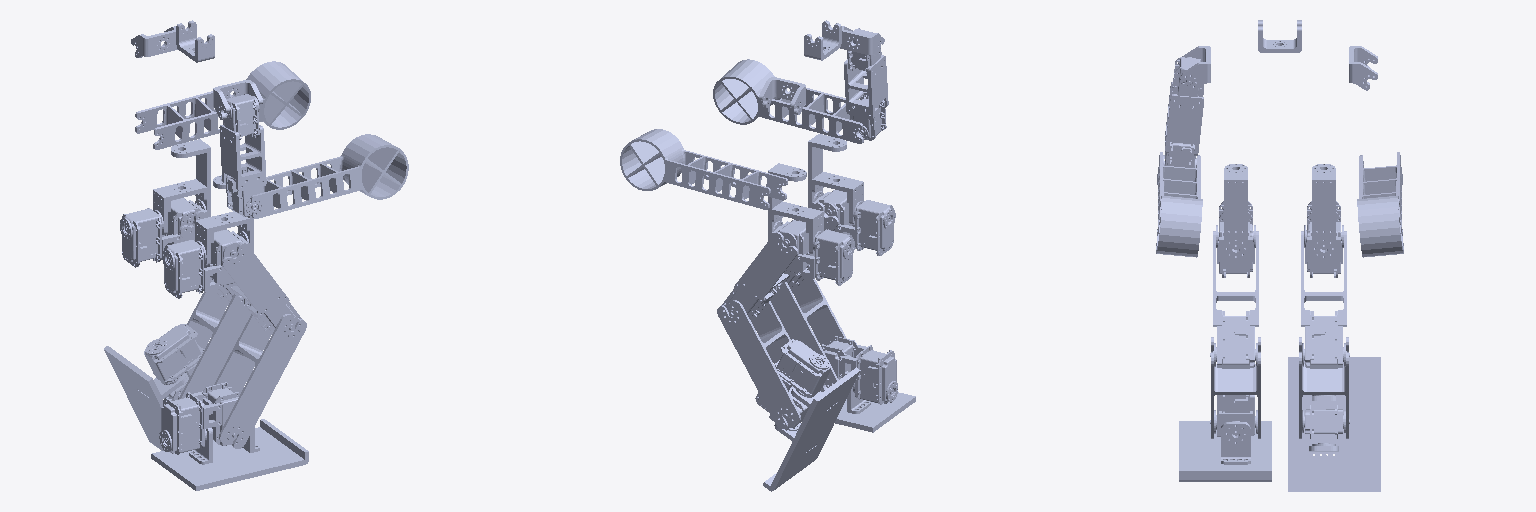
--- What the picture shows (computed from the rendered views, not written in the file) ---
3 views of the same robot in one strip: view 1: azimuth 30°, elevation 25°; view 2: azimuth 150°, elevation 25°; view 3: azimuth 270°, elevation 25° (orthographic).
Model kubot23N with 21 links and 20 joints (12 revolute, 8 fixed), rooted at base_link, posed all joints at 0.
Links seen in each view (by area): view 1: R_hand_pitch, R_Knee, L_hand_pitch, R_Ankle_roll, R_elbow_roll, R_Ankle_pitch, L_Knee, R_Hip_roll, L_Hip_roll, R_Hip_pitch, L_Ankle_roll, L_Ankle_pitch (+5 smaller); view 2: L_hand_pitch, R_hand_pitch, L_Knee, L_Ankle_roll, R_Knee, L_Hip_roll, R_elbow_roll, R_Ankle_pitch, R_Hip_roll, L_Hip_pitch, L_Ankle_pitch, R_Hip_yaw (+5 smaller); view 3: L_Ankle_roll, R_Ankle_roll, L_hand_pitch, R_hand_pitch, R_elbow_roll, L_Hip_pitch, R_Hip_pitch, R_Ankle_pitch, L_Hip_yaw, R_Hip_yaw, L_Ankle_pitch, L_Knee (+6 smaller).
Boxes of the visible links, x1,y1,x2,y2 form: R_hand_pitch: [250, 134, 408, 218]; R_Knee: [214, 314, 306, 448]; L_hand_pitch: [135, 61, 310, 149]; R_Ankle_roll: [151, 419, 308, 490]; R_elbow_roll: [219, 94, 266, 216]; R_Ankle_pitch: [159, 382, 259, 454]; L_Knee: [178, 290, 250, 399]; R_Hip_roll: [162, 230, 249, 298]; L_Hip_roll: [120, 198, 206, 267]; R_Hip_pitch: [222, 229, 301, 332]; L_Ankle_roll: [104, 346, 186, 450]; L_Ankle_pitch: [144, 324, 204, 400]; L_hand_pitch: [620, 129, 787, 209]; R_hand_pitch: [713, 59, 863, 143]; L_Knee: [717, 300, 800, 428]; L_Ankle_roll: [763, 367, 860, 491]; R_Knee: [770, 277, 846, 391]; L_Hip_roll: [772, 220, 854, 285]; R_elbow_roll: [844, 28, 888, 140]; R_Ankle_pitch: [821, 336, 897, 404]; R_Hip_roll: [812, 190, 895, 255]; L_Hip_pitch: [722, 219, 798, 318]; L_Ankle_pitch: [755, 339, 831, 441]; R_Hip_yaw: [808, 134, 863, 224]; L_Ankle_roll: [1288, 357, 1380, 491]; R_Ankle_roll: [1179, 421, 1271, 481]; L_hand_pitch: [1357, 152, 1403, 257]; R_hand_pitch: [1156, 152, 1202, 257]; R_elbow_roll: [1163, 57, 1203, 167]; L_Hip_pitch: [1301, 231, 1349, 368]; R_Hip_pitch: [1210, 231, 1258, 368]; R_Ankle_pitch: [1210, 395, 1257, 464]; L_Hip_yaw: [1312, 164, 1335, 261]; R_Hip_yaw: [1224, 164, 1247, 261]; L_Ankle_pitch: [1302, 395, 1349, 458]; L_Knee: [1299, 337, 1348, 438].
Size in the robot's own frame: 0.2926 by 0.2945 by 0.6094 metres.
Meshes: 21 distinct files referenced, 18 mesh visuals loaded (18 binary STL); not drawn: 3 (reference not matched to a file when rendering).

URDF robot description (kubot23N):
<?xml version="1.0" encoding="utf-8"?>
<!-- This URDF was automatically created by SolidWorks to URDF Exporter! Originally created by Stephen Brawner ([email redacted]) 
     Commit Version: 1.6.0-1-g15f4949  Build Version: 1.6.7594.29634
     For more information, please see http://wiki.ros.org/sw_urdf_exporter -->
<robot
  name="kubot23N">
  <link
    name="base_link">
    <inertial>
      <origin
        xyz="-0.01298 -0.0002287 0.10165"
        rpy="0 0 0" />
      <mass
        value="1.5013" />
      <inertia
        ixx="0.002447"
        ixy="0"
        ixz="0"
        iyy="0.0016369"
        iyz="0"
        izz="0.002646" />
    </inertial>
    <visual>
      <origin
        xyz="0 0 0"
        rpy="0 0 0" />
      <geometry>
        <mesh
          filename="../meshes/base_link.STL" />
      </geometry>
      <material
        name="">
        <color
          rgba="0.79216 0.81961 0.93333 1" />
      </material>
    </visual>
    <collision>
      <origin
        xyz="0 0 0"
        rpy="0 0 0" />
      <geometry>
        <mesh
          filename="../meshes/base_link.STL" />
      </geometry>
    </collision>
  </link>
  <link
    name="L_Hip_yaw">
    <inertial>
      <origin
        xyz="0.0079905 -7.6661E-09 0.037856"
        rpy="0 0 0" />
      <mass
        value="0.042373" />
      <inertia
        ixx="2.0934E-05"
        ixy="0"
        ixz="0"
        iyy="2.3301E-05"
        iyz="0"
        izz="8.0568E-06" />
    </inertial>
    <visual>
      <origin
        xyz="0 0 0"
        rpy="0 0 0" />
      <geometry>
        <mesh
          filename="../meshes/L_Hip_yaw.STL" />
      </geometry>
      <material
        name="">
        <color
          rgba="0.79216 0.81961 0.93333 1" />
      </material>
    </visual>
    <collision>
      <origin
        xyz="0 0 0"
        rpy="0 0 0" />
      <geometry>
        <mesh
          filename="../meshes/L_Hip_yaw.STL" />
      </geometry>
    </collision>
  </link>
  <joint
    name="L_Hip_yaw_joint"
    type="fixed">
    <origin
      xyz="0.02369 0.052535 -0.026869"
      rpy="0 0 0" />
    <parent
      link="base_link" />
    <child
      link="L_Hip_yaw" />
    <axis
      xyz="0 0 1" />
    <limit command_effort="40" current="10" effort="80" gear_velocity="10" lower="-0.01" upper="0.01" velocity="15"/>
    <dynamics damping="1.0" friction="0.1"/>
  </joint>
  <link
    name="L_Hip_roll">
    <inertial>
      <origin
        xyz="-0.026534 3.8583E-05 -0.015186"
        rpy="0 0 0" />
      <mass
        value="0.16184" />
      <inertia
        ixx="5.7094E-05"
        ixy="0"
        ixz="0"
        iyy="5.6447E-05"
        iyz="0"
        izz="3.5594E-05" />
    </inertial>
    <visual>
      <origin
        xyz="0 0 0"
        rpy="0 0 0" />
      <geometry>
        <mesh
          filename="../meshes/L_Hip_roll.STL" />
      </geometry>
      <material
        name="">
        <color
          rgba="0.79216 0.81961 0.93333 1" />
      </material>
    </visual>
    <collision>
      <origin
        xyz="0 0 0"
        rpy="0 0 0" />
      <geometry>
        <mesh
          filename="../meshes/L_Hip_roll.STL" />
      </geometry>
    </collision>
  </link>
  <joint
    name="L_Hip_roll_joint"
    type="revolute">
    <origin
      xyz="0 0 0"
      rpy="0 0 0" />
    <parent
      link="L_Hip_yaw" />
    <child
      link="L_Hip_roll" />
    <axis
      xyz="-1 0 0" />
    <limit command_effort="40" current="10" effort="80" gear_velocity="10" lower="-0.3" upper="0.175" velocity="15"/>
    <dynamics damping="1.0" friction="0.1"/>
  </joint>
  <link
    name="L_Hip_pitch">
    <inertial>
      <origin
        xyz="-0.00049308 0.00014973 -0.10339"
        rpy="0 0 0" />
      <mass
        value="0.13309" />
      <inertia
        ixx="0.00010704"
        ixy="0"
        ixz="0"
        iyy="7.9626E-05"
        iyz="0"
        izz="5.4203E-05" />
    </inertial>
    <visual>
      <origin
        xyz="0 0 0"
        rpy="0 0 0" />
      <geometry>
        <mesh
          filename="../meshes/L_Hip_pitch.STL" />
      </geometry>
      <material
        name="">
        <color
          rgba="0.79216 0.81961 0.93333 1" />
      </material>
    </visual>
    <collision>
      <origin
        xyz="0 0 0"
        rpy="0 0 0" />
      <geometry>
        <mesh
          filename="../meshes/L_Hip_pitch.STL" />
      </geometry>
    </collision>
  </link>
  <joint
    name="L_Hip_pitch_joint"
    type="revolute">
    <origin
      xyz="0 0 0"
      rpy="0 -0.592069 0" />
    <parent
      link="L_Hip_roll" />
    <child
      link="L_Hip_pitch" />
    <axis
      xyz="0 -1 0" />
    <limit command_effort="40" current="10" effort="80" gear_velocity="10" lower="-0.795" upper="2.094" velocity="15"/>
    <dynamics damping="1.0" friction="0.1"/>
  </joint>
  <link
    name="L_Knee">
    <inertial>
      <origin
        xyz="-0.0008 0.00019995 -0.071592"
        rpy="0 0 0" />
      <mass
        value="0.064192" />
      <inertia
        ixx="0.00017283"
        ixy="0"
        ixz="0"
        iyy="0.00013756"
        iyz="0"
        izz="5.3025E-05" />
    </inertial>
    <visual>
      <origin
        xyz="0 0 0"
        rpy="0 0 0" />
      <geometry>
        <mesh
          filename="../meshes/L_Knee.STL" />
      </geometry>
      <material
        name="">
        <color
          rgba="0.79216 0.81961 0.93333 1" />
      </material>
    </visual>
    <collision>
      <origin
        xyz="0 0 0"
        rpy="0 0 0" />
      <geometry>
        <mesh
          filename="../meshes/L_Knee.STL" />
      </geometry>
    </collision>
  </link>
  <joint
    name="L_Knee_joint"
    type="revolute">
    <origin
      xyz="0 0 -0.142"
      rpy="0 1.160804 0" />
    <parent
      link="L_Hip_pitch" />
    <child
      link="L_Knee" />
    <axis
      xyz="0 -1 0" />
    <limit command_effort="40" current="10" effort="80" gear_velocity="10" lower="-1" upper="0.5" velocity="15"/>
    <dynamics damping="1.0" friction="0.1"/>
  </joint>
  <link
    name="L_Ankle_pitch">
    <inertial>
      <origin
        xyz="-0.023428 0.00014941 0.013986"
        rpy="0 0 0" />
      <mass
        value="0.202" />
      <inertia
        ixx="8.0067E-05"
        ixy="0"
        ixz="0"
        iyy="7.8271E-05"
        iyz="0"
        izz="4.9146E-05" />
    </inertial>
    <visual>
      <origin
        xyz="0 0 0"
        rpy="0 0 0" />
      <geometry>
        <mesh
          filename="../meshes/L_Ankle_pitch.STL" />
      </geometry>
      <material
        name="">
        <color
          rgba="0.79216 0.81961 0.93333 1" />
      </material>
    </visual>
    <collision>
      <origin
        xyz="0 0 0"
        rpy="0 0 0" />
      <geometry>
        <mesh
          filename="../meshes/L_Ankle_pitch.STL" />
      </geometry>
    </collision>
  </link>
  <joint
    name="L_Ankle_pitch_joint"
    type="revolute">
    <origin
      xyz="0 0 -0.15"
      rpy="0 0.568735 0" />
    <parent
      link="L_Knee" />
    <child
      link="L_Ankle_pitch" />
    <axis
      xyz="0 -1 0" />
    <limit command_effort="40" current="10" effort="80" gear_velocity="10" lower="-0.3" upper="0.6" velocity="15"/>
    <dynamics damping="1.0" friction="0.1"/>
  </joint>
  <link
    name="L_Ankle_roll">
    <inertial>
      <origin
        xyz="0.0032401 0.011838 -0.036203"
        rpy="0 0 0" />
      <mass
        value="0.13947" />
      <inertia
        ixx="0.00013469"
        ixy="0"
        ixz="0"
        iyy="0.00029939"
        iyz="0"
        izz="0.0004274" />
    </inertial>
    <visual>
      <origin
        xyz="0 0 0"
        rpy="0 0 0" />
      <geometry>
        <mesh
          filename="../meshes/L_Ankle_roll.STL" />
      </geometry>
      <material
        name="">
        <color
          rgba="0.79216 0.81961 0.93333 1" />
      </material>
    </visual>
    <collision>
      <origin
        xyz="0 0 0"
        rpy="0 0 0" />
      <geometry>
        <mesh
          filename="../meshes/L_Ankle_roll.STL" />
      </geometry>
    </collision>
  </link>
  <joint
    name="L_Ankle_roll_joint"
    type="revolute">
    <origin
      xyz="0 0 0"
      rpy="0 0 0" />
    <parent
      link="L_Ankle_pitch" />
    <child
      link="L_Ankle_roll" />
    <axis
      xyz="-1 0 0" />
    <limit command_effort="40" current="10" effort="80" gear_velocity="10" lower="-0.05" upper="0.05" velocity="15"/>
    <dynamics damping="0.707" friction="0.1"/>
  </joint>
  <link
    name="R_Hip_yaw">
    <inertial>
      <origin
        xyz="0.0079905 -7.6661E-09 0.037856"
        rpy="0 0 0" />
      <mass
        value="0.042373" />
      <inertia
        ixx="2.0934E-05"
        ixy="0"
        ixz="0"
        iyy="2.3301E-05"
        iyz="0"
        izz="8.0568E-06" />
    </inertial>
    <visual>
      <origin
        xyz="0 0 0"
        rpy="0 0 0" />
      <geometry>
        <mesh
          filename="../meshes/R_Hip_yaw.STL" />
      </geometry>
      <material
        name="">
        <color
          rgba="0.79216 0.81961 0.93333 1" />
      </material>
    </visual>
    <collision>
      <origin
        xyz="0 0 0"
        rpy="0 0 0" />
      <geometry>
        <mesh
          filename="../meshes/R_Hip_yaw.STL" />
      </geometry>
    </collision>
  </link>
  <joint
    name="R_Hip_yaw_joint"
    type="revolute">
    <origin
      xyz="0.02369 -0.052065 -0.026869"
      rpy="0 0 0" />
    <parent
      link="base_link" />
    <child
      link="R_Hip_yaw" />
    <axis
      xyz="0 0 1" />
    <limit command_effort="40" current="10" effort="80" gear_velocity="10" lower="-0.1" upper="0.1" velocity="15"/>
    <dynamics damping="0.707" friction="0.1"/>
  </joint>
  <link
    name="R_Hip_roll">
    <inertial>
      <origin
        xyz="-0.026534 -3.8624E-05 -0.015186"
        rpy="0 0 0" />
      <mass
        value="0.16184" />
      <inertia
        ixx="5.7094E-05"
        ixy="0"
        ixz="0"
        iyy="5.6447E-05"
        iyz="0"
        izz="3.5594E-05" />
    </inertial>
    <visual>
      <origin
        xyz="0 0 0"
        rpy="0 0 0" />
      <geometry>
        <mesh
          filename="../meshes/R_Hip_roll.STL" />
      </geometry>
      <material
        name="">
        <color
          rgba="0.79216 0.81961 0.93333 1" />
      </material>
    </visual>
    <collision>
      <origin
        xyz="0 0 0"
        rpy="0 0 0" />
      <geometry>
        <mesh
          filename="../meshes/R_Hip_roll.STL" />
      </geometry>
    </collision>
  </link>
  <joint
    name="R_Hip_roll_joint"
    type="revolute">
    <origin
      xyz="0 0 0"
      rpy="0 0 0" />
    <parent
      link="R_Hip_yaw" />
    <child
      link="R_Hip_roll" />
    <axis
      xyz="-1 0 0" />
    <limit command_effort="40" current="10" effort="80" gear_velocity="10" lower="-0.175" upper="0.3" velocity="15"/>
    <dynamics damping="1.0" friction="0.1"/>
  </joint>
  <link
    name="R_Hip_pitch">
    <inertial>
      <origin
        xyz="-0.0004978 -0.00014979 -0.10339"
        rpy="0 0 0" />
      <mass
        value="0.13309" />
      <inertia
        ixx="0.00010704"
        ixy="0"
        ixz="0"
        iyy="7.9626E-05"
        iyz="0"
        izz="5.4203E-05" />
    </inertial>
    <visual>
      <origin
        xyz="0 0 0"
        rpy="0 0 0" />
      <geometry>
        <mesh
          filename="../meshes/R_Hip_pitch.STL" />
      </geometry>
      <material
        name="">
        <color
          rgba="0.79216 0.81961 0.93333 1" />
      </material>
    </visual>
    <collision>
      <origin
        xyz="0 0 0"
        rpy="0 0 0" />
      <geometry>
        <mesh
          filename="../meshes/R_Hip_pitch.STL" />
      </geometry>
    </collision>
  </link>
  <joint
    name="R_Hip_pitch_joint"
    type="revolute">
    <origin
      xyz="0 0 0"
      rpy="0 -0.592069 0" />
    <parent
      link="R_Hip_roll" />
    <child
      link="R_Hip_pitch" />
    <axis
      xyz="0 1 0" />
    <limit command_effort="40" current="10" effort="80" gear_velocity="10" lower="-2.094" upper="0.795" velocity="15"/>
    <dynamics damping="1.0" friction="0.1"/>
  </joint>
  <link
    name="R_Knee">
    <inertial>
      <origin
        xyz="-0.0008 -0.00020005 -0.071592"
        rpy="0 0 0" />
      <mass
        value="0.064192" />
      <inertia
        ixx="0.00017283"
        ixy="0"
        ixz="0"
        iyy="0.00013756"
        iyz="0"
        izz="5.3025E-05" />
    </inertial>
    <visual>
      <origin
        xyz="0 0 0"
        rpy="0 0 0" />
      <geometry>
        <mesh
          filename="../meshes/R_Knee.STL" />
      </geometry>
      <material
        name="">
        <color
          rgba="0.79216 0.81961 0.93333 1" />
      </material>
    </visual>
    <collision>
      <origin
        xyz="0 0 0"
        rpy="0 0 0" />
      <geometry>
        <mesh
          filename="../meshes/R_Knee.STL" />
      </geometry>
    </collision>
  </link>
  <joint
    name="R_Knee_joint"
    type="revolute">
    <origin
      xyz="0 0 -0.142"
      rpy="0 1.160804 0" />
    <parent
      link="R_Hip_pitch" />
    <child
      link="R_Knee" />
    <axis
      xyz="0 1 0" />
    <limit command_effort="40" current="10" effort="80" gear_velocity="10" lower="-0.5" upper="1.0" velocity="15"/>
    <dynamics damping="1.0" friction="0.1"/>
  </joint>
  <link
    name="R_Ankle_pitch">
    <inertial>
      <origin
        xyz="-0.023731 -0.00015295 0.01407"
        rpy="0 0 0" />
      <mass
        value="0.20079" />
      <inertia
        ixx="7.9929E-05"
        ixy="0"
        ixz="0"
        iyy="7.8201E-05"
        iyz="0"
        izz="4.9077E-05" />
    </inertial>
    <visual>
      <origin
        xyz="0 0 0"
        rpy="0 0 0" />
      <geometry>
        <mesh
          filename="../meshes/R_Ankle_pitch.STL" />
      </geometry>
      <material
        name="">
        <color
          rgba="0.79216 0.81961 0.93333 1" />
      </material>
    </visual>
    <collision>
      <origin
        xyz="0 0 0"
        rpy="0 0 0" />
      <geometry>
        <mesh
          filename="../meshes/R_Ankle_pitch.STL" />
      </geometry>
    </collision>
  </link>
  <joint
    name="R_Ankle_pitch_joint"
    type="revolute">
    <origin
      xyz="0 0 -0.15"
      rpy="0 -0.568735 0" />
    <parent
      link="R_Knee" />
    <child
      link="R_Ankle_pitch" />
    <axis
      xyz="0 1 0" />
    <limit command_effort="40" current="10" effort="80" gear_velocity="10" lower="-0.6" upper="0.3" velocity="15"/>
    <dynamics damping="1.0" friction="0.1"/>
  </joint>
  <link
    name="R_Ankle_roll">
    <inertial>
      <origin
        xyz="0.0032401 -0.011838 -0.036203"
        rpy="0 0 0" />
      <mass
        value="0.13947" />
      <inertia
        ixx="0.00013469"
        ixy="0"
        ixz="0"
        iyy="0.00029939"
        iyz="0"
        izz="0.0004274" />
    </inertial>
    <visual>
      <origin
        xyz="0 0 0"
        rpy="0 0 0" />
      <geometry>
        <mesh
          filename="../meshes/R_Ankle_roll.STL" />
      </geometry>
      <material
        name="">
        <color
          rgba="0.79216 0.81961 0.93333 1" />
      </material>
    </visual>
    <collision>
      <origin
        xyz="0 0 0"
        rpy="0 0 0" />
      <geometry>
        <mesh
          filename="../meshes/R_Ankle_roll.STL" />
      </geometry>
    </collision>
  </link>
  <joint
    name="R_Ankle_roll_joint"
    type="revolute">
    <origin
      xyz="0 0 0"
      rpy="0 0 0" />
    <parent
      link="R_Ankle_pitch" />
    <child
      link="R_Ankle_roll" />
    <axis
      xyz="-1 0 0" />
    <limit command_effort="40" current="10" effort="80" gear_velocity="10" lower="-0.05" upper="0.05" velocity="15"/>
    <dynamics damping="0.707" friction="0.1"/>
  </joint>
  <link
    name="L_shoulder_pitch">
    <inertial>
      <origin
        xyz="-5.0536E-10 0.010248 -0.0016377"
        rpy="0 0 0" />
      <mass
        value="0.01447" />
      <inertia
        ixx="2.0393E-06"
        ixy="0"
        ixz="0"
        iyy="6.5772E-06"
        iyz="0"
        izz="6.757E-06" />
    </inertial>
    <visual>
      <origin
        xyz="0 0 0"
        rpy="0 0 0" />
      <geometry>
        <mesh
          filename="../meshes/L_shoulder_pitch.STL" />
      </geometry>
      <material
        name="">
        <color
          rgba="0.79216 0.81961 0.93333 1" />
      </material>
    </visual>
    <collision>
      <origin
        xyz="0 0 0"
        rpy="0 0 0" />
      <geometry>
        <mesh
          filename="../meshes/L_shoulder_pitch.STL" />
      </geometry>
    </collision>
  </link>
  <joint
    name="L_shoulder_pitch_joint"
    type="fixed">
    <origin
      xyz="0.01519 0.081985 0.19521"
      rpy="0 0 0" />
    <parent
      link="base_link" />
    <child
      link="L_shoulder_pitch" />
    <axis
      xyz="0 -1 0" />
    <limit command_effort="40" current="10" effort="80" gear_velocity="10" lower="-0.05" upper="0.05" velocity="15"/>
    <dynamics damping="0.707" friction="0.1"/>
  </joint>
  <link
    name="L_elbow_roll">
    <inertial>
      <origin
        xyz="-0.02074 1.0222E-05 -0.061881"
        rpy="0 0 0" />
      <mass
        value="0.12312" />
      <inertia
        ixx="4.1405E-05"
        ixy="0"
        ixz="0"
        iyy="4.4134E-05"
        iyz="0"
        izz="2.9326E-05" />
    </inertial>
    <visual>
      <origin
        xyz="0 0 0"
        rpy="0 0 0" />
      <geometry>
        <mesh
          filename="../meshes/L_elbow_roll.STL" />
      </geometry>
      <material
        name="">
        <color
          rgba="0.79216 0.81961 0.93333 1" />
      </material>
    </visual>
    <collision>
      <origin
        xyz="0 0 0"
        rpy="0 0 0" />
      <geometry>
        <mesh
          filename="../meshes/L_elbow_roll.STL" />
      </geometry>
    </collision>
  </link>
  <joint
    name="L_elbow_roll_joint"
    type="fixed">
    <origin
      xyz="0.020275 0.025656 -0.01045"
      rpy="0.1 0 0" />
    <parent
      link="L_shoulder_pitch" />
    <child
      link="L_elbow_roll" />
    <axis
      xyz="-1 0 0" />
    <limit command_effort="40" current="10" effort="80" gear_velocity="10" lower="-0.1" upper="0.03" velocity="15"/>
    <dynamics damping="1.0" friction="0.1"/>
  </joint>
  <link
    name="L_hand_pitch">
    <inertial>
      <origin
        xyz="-2.6021E-15 -0.020275 -0.13605"
        rpy="0 0 0" />
      <mass
        value="0.085842" />
      <inertia
        ixx="0.00035605"
        ixy="0"
        ixz="0"
        iyy="0.00035569"
        iyz="0"
        izz="4.765E-05" />
    </inertial>
    <visual>
      <origin
        xyz="0 0 0"
        rpy="0 0 0" />
      <geometry>
        <mesh
          filename="../meshes/L_hand_pitch.STL" />
      </geometry>
      <material
        name="">
        <color
          rgba="0.79216 0.81961 0.93333 1" />
      </material>
    </visual>
    <collision>
      <origin
        xyz="0 0 0"
        rpy="0 0 0" />
      <geometry>
        <mesh
          filename="../meshes/L_hand_pitch.STL" />
      </geometry>
    </collision>
  </link>
  <joint
    name="L_hand_pitch_joint"
    type="fixed">
    <origin
      xyz="-0.02075 0.02075 -0.1231"
      rpy="0 -1.6 0" />
    <parent
      link="L_elbow_roll" />
    <child
      link="L_hand_pitch" />
    <axis
      xyz="0 -1 0" />
    <limit command_effort="40" current="10" effort="80" gear_velocity="10" lower="-0.01" upper="0.03" velocity="15"/>
    <dynamics damping="0.707" friction="0.1"/>
  </joint>
  <link
    name="R_shoulder_pitch">
    <inertial>
      <origin
        xyz="5.0536E-10 -0.010248 -0.0016377"
        rpy="0 0 0" />
      <mass
        value="0.01447" />
      <inertia
        ixx="2.0393E-06"
        ixy="0"
        ixz="0"
        iyy="6.5772E-06"
        iyz="0"
        izz="6.757E-06" />
    </inertial>
    <visual>
      <origin
        xyz="0 0 0"
        rpy="0 0 0" />
      <geometry>
        <mesh
          filename="../meshes/R_shoulder_pitch.STL" />
      </geometry>
      <material
        name="">
        <color
          rgba="0.79216 0.81961 0.93333 1" />
      </material>
    </visual>
    <collision>
      <origin
        xyz="0 0 0"
        rpy="0 0 0" />
      <geometry>
        <mesh
          filename="../meshes/R_shoulder_pitch.STL" />
      </geometry>
    </collision>
  </link>
  <joint
    name="R_shoulder_pitch_joint"
    type="fixed">
    <origin
      xyz="0.01519 -0.081515 0.19521"
      rpy="0 0 0" />
    <parent
      link="base_link" />
    <child
      link="R_shoulder_pitch" />
    <axis
      xyz="0 1 0" />
    <limit command_effort="40" current="10" effort="80" gear_velocity="10" lower="-0.05" upper="0.05" velocity="15"/>
    <dynamics damping="0.707" friction="0.1"/>
  </joint>
  <link
    name="R_elbow_roll">
    <inertial>
      <origin
        xyz="-0.020741 -8.8027E-06 -0.061881"
        rpy="0 0 0" />
      <mass
        value="0.12312" />
      <inertia
        ixx="4.1405E-05"
        ixy="0"
        ixz="0"
        iyy="4.4134E-05"
        iyz="0"
        izz="2.9326E-05" />
    </inertial>
    <visual>
      <origin
        xyz="0 0 0"
        rpy="0 0 0" />
      <geometry>
        <mesh
          filename="../meshes/R_elbow_roll.STL" />
      </geometry>
      <material
        name="">
        <color
          rgba="0.79216 0.81961 0.93333 1" />
      </material>
    </visual>
    <collision>
      <origin
        xyz="0 0 0"
        rpy="0 0 0" />
      <geometry>
        <mesh
          filename="../meshes/R_elbow_roll.STL" />
      </geometry>
    </collision>
  </link>
  <joint
    name="R_elbow_roll_joint"
    type="fixed">
    <origin
      xyz="0.020275 -0.025656 -0.01045"
      rpy="-0.1 0 0" />
    <parent
      link="R_shoulder_pitch" />
    <child
      link="R_elbow_roll" />
    <axis
      xyz="-1 0 0" />
    <limit command_effort="40" current="10" effort="80" gear_velocity="10" lower="-0.03" upper="0.1" velocity="15"/>
    <dynamics damping="1.0" friction="0.1"/>
  </joint>
  <link
    name="R_hand_pitch">
    <inertial>
      <origin
        xyz="-4.8572E-16 0.020275 -0.13605"
        rpy="0 0 0" />
      <mass
        value="0.085842" />
      <inertia
        ixx="0.00035605"
        ixy="0"
        ixz="0"
        iyy="0.00035569"
        iyz="0"
        izz="4.765E-05" />
    </inertial>
    <visual>
      <origin
        xyz="0 0 0"
        rpy="0 0 0" />
      <geometry>
        <mesh
          filename="../meshes/R_hand_pitch.STL" />
      </geometry>
      <material
        name="">
        <color
          rgba="0.79216 0.81961 0.93333 1" />
      </material>
    </visual>
    <collision>
      <origin
        xyz="0 0 0"
        rpy="0 0 0" />
      <geometry>
        <mesh
          filename="../meshes/R_hand_pitch.STL" />
      </geometry>
    </collision>
  </link>
  <joint
    name="R_hand_pitch_joint"
    type="fixed">
    <origin
      xyz="-0.02075 -0.02075 -0.1231"
      rpy="0 -1.6 0" />
    <parent
      link="R_elbow_roll" />
    <child
      link="R_hand_pitch" />
    <axis
      xyz="0 1 0" />
    <limit command_effort="40" current="10" effort="80" gear_velocity="10" lower="-0.03" upper="0.01" velocity="15"/>
    <dynamics damping="0.707" friction="0.1"/>
  </joint>
  <link
    name="Neck_yaw">
    <inertial>
      <origin
        xyz="1.027E-15 2.3592E-16 0.010333"
        rpy="0 0 0" />
      <mass
        value="0.014237" />
      <inertia
        ixx="6.6446E-06"
        ixy="0"
        ixz="0"
        iyy="1.9564E-06"
        iyz="0"
        izz="6.2867E-06" />
    </inertial>
    <visual>
      <origin
        xyz="0 0 0"
        rpy="0 0 0" />
      <geometry>
        <mesh
          filename="../meshes/Neck_yaw.STL" />
      </geometry>
      <material
        name="">
        <color
          rgba="0.79216 0.81961 0.93333 1" />
      </material>
    </visual>
    <collision>
      <origin
        xyz="0 0 0"
        rpy="0 0 0" />
      <geometry>
        <mesh
          filename="../meshes/Neck_yaw.STL" />
      </geometry>
    </collision>
  </link>
  <joint
    name="Neck_yaw_joint"
    type="fixed">
    <origin
      xyz="0.01344 0.00023493 0.21516"
      rpy="0 0 0" />
    <parent
      link="base_link" />
    <child
      link="Neck_yaw" />
    <axis
      xyz="0 0 -1" />
    <limit command_effort="40" current="10" effort="80" gear_velocity="10" lower="-0.01" upper="0.01" velocity="15"/>
    <dynamics damping="0.707" friction="0.1"/>
  </joint>
  <link
    name="head_pitch">
    <inertial>
      <origin
        xyz="-0.00087615 -0.00049281 0.038502"
        rpy="0 0 0" />
      <mass
        value="0.14082" />
      <inertia
        ixx="0.0001309"
        ixy="0"
        ixz="0"
        iyy="2.5779E-05"
        iyz="0"
        izz="0.00012811" />
    </inertial>
    <visual>
      <origin
        xyz="0 0 0"
        rpy="0 0 0" />
      <geometry>
        <mesh
          filename="../meshes/head_pitch.STL" />
      </geometry>
      <material
        name="">
        <color
          rgba="0.79216 0.81961 0.93333 1" />
      </material>
    </visual>
    <collision>
      <origin
        xyz="0 0 0"
        rpy="0 0 0" />
      <geometry>
        <mesh
          filename="../meshes/head_pitch.STL" />
      </geometry>
    </collision>
  </link>
  <joint
    name="head_pitch_joint"
    type="revolute">
    <origin
      xyz="0 0 0.0275"
      rpy="0 0 0" />
    <parent
      link="Neck_yaw" />
    <child
      link="head_pitch" />
    <axis
      xyz="0 1 0" />
    <limit command_effort="40" current="10" effort="80" gear_velocity="10" lower="-0.01" upper="0.01" velocity="15"/>
    <dynamics damping="0.707" friction="0.1"/>
  </joint>
</robot>
